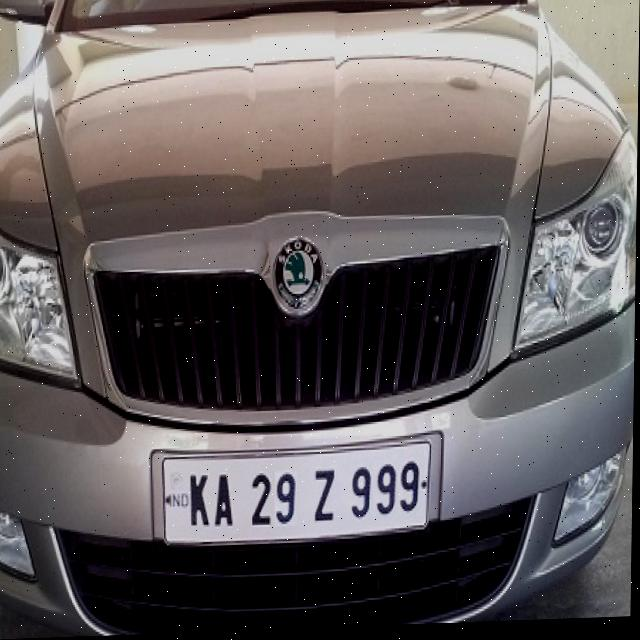plate: (156, 438, 435, 549)
